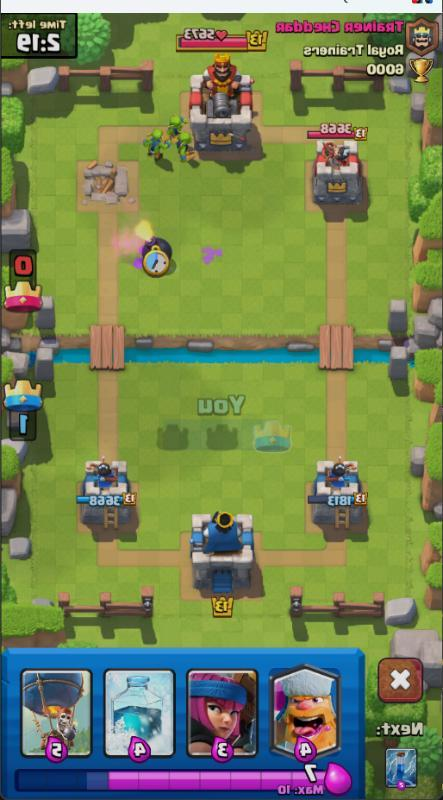player_goblins: (138, 125, 168, 161), (169, 127, 199, 163), (162, 108, 187, 140)
